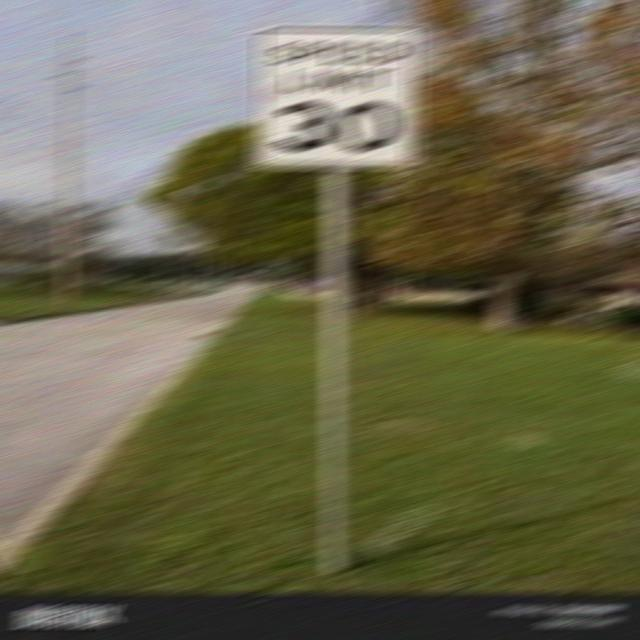speedLimit35: (255, 29, 416, 174)
